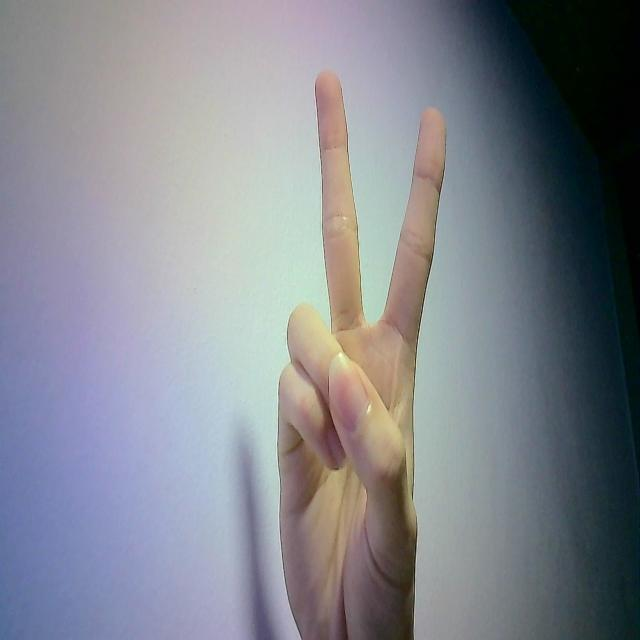V: (251, 33, 456, 640)
